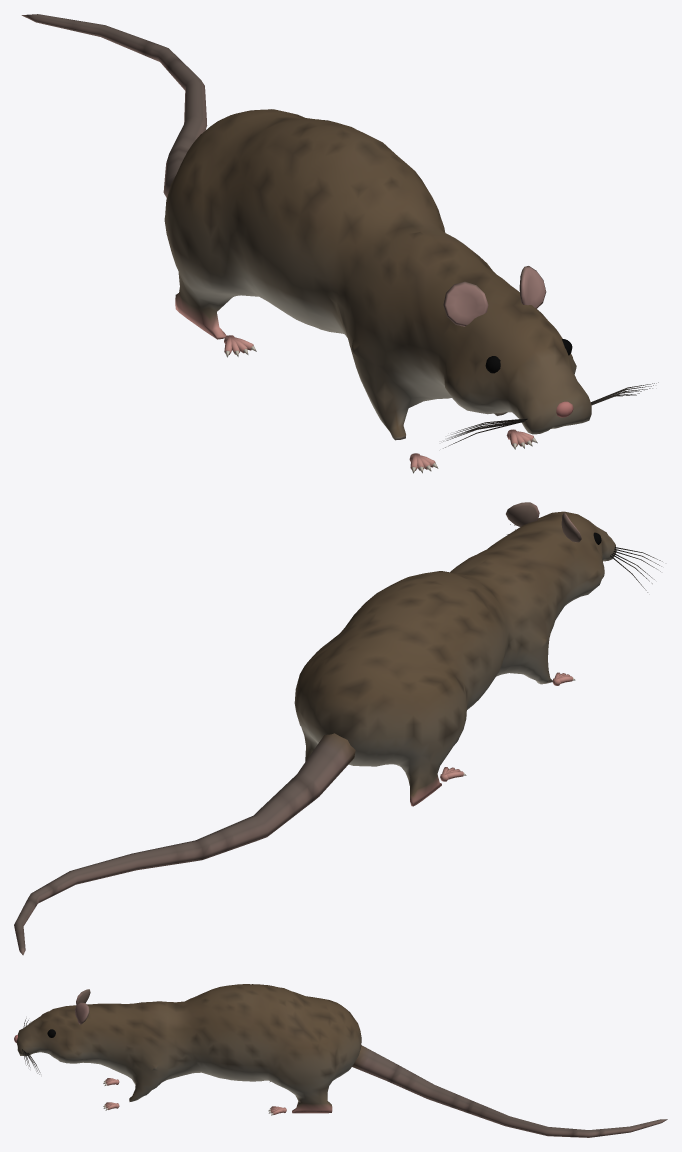
File: BrownRat.fbx
3 renders of one model, top to bottom at view 1: azimuth 30°, elevation 25°; view 2: azimuth 150°, elevation 25°; view 3: azimuth 270°, elevation 25°, orthographic. The views are drawn at different scales.
Parts seen in each view (by area): view 1: BrownRat; view 2: BrownRat; view 3: BrownRat.
Part boxes in pixels (bbox=[...]): BrownRat: bbox=[21, 14, 658, 473]; BrownRat: bbox=[14, 502, 662, 955]; BrownRat: bbox=[14, 984, 667, 1137].
Size of the model in its own units: 0.2822 by 0.2046 by 1.12.
